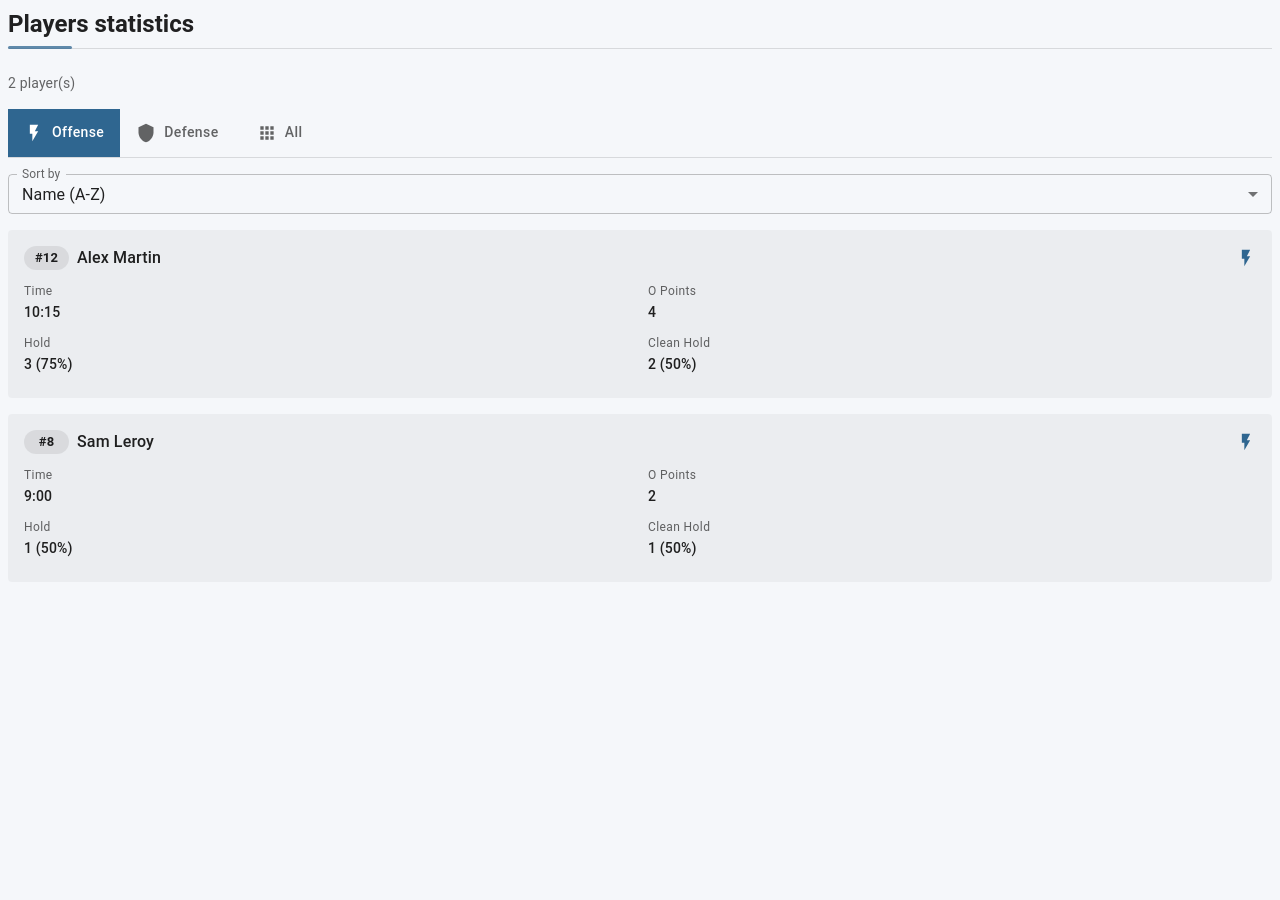
Test: PlayerStatistics › shows offense and defense stats together on mobile cards in the All tab
The image size is (1280, 900).
Click the tab "All".
click(280, 133)  # box [235,109,325,157]
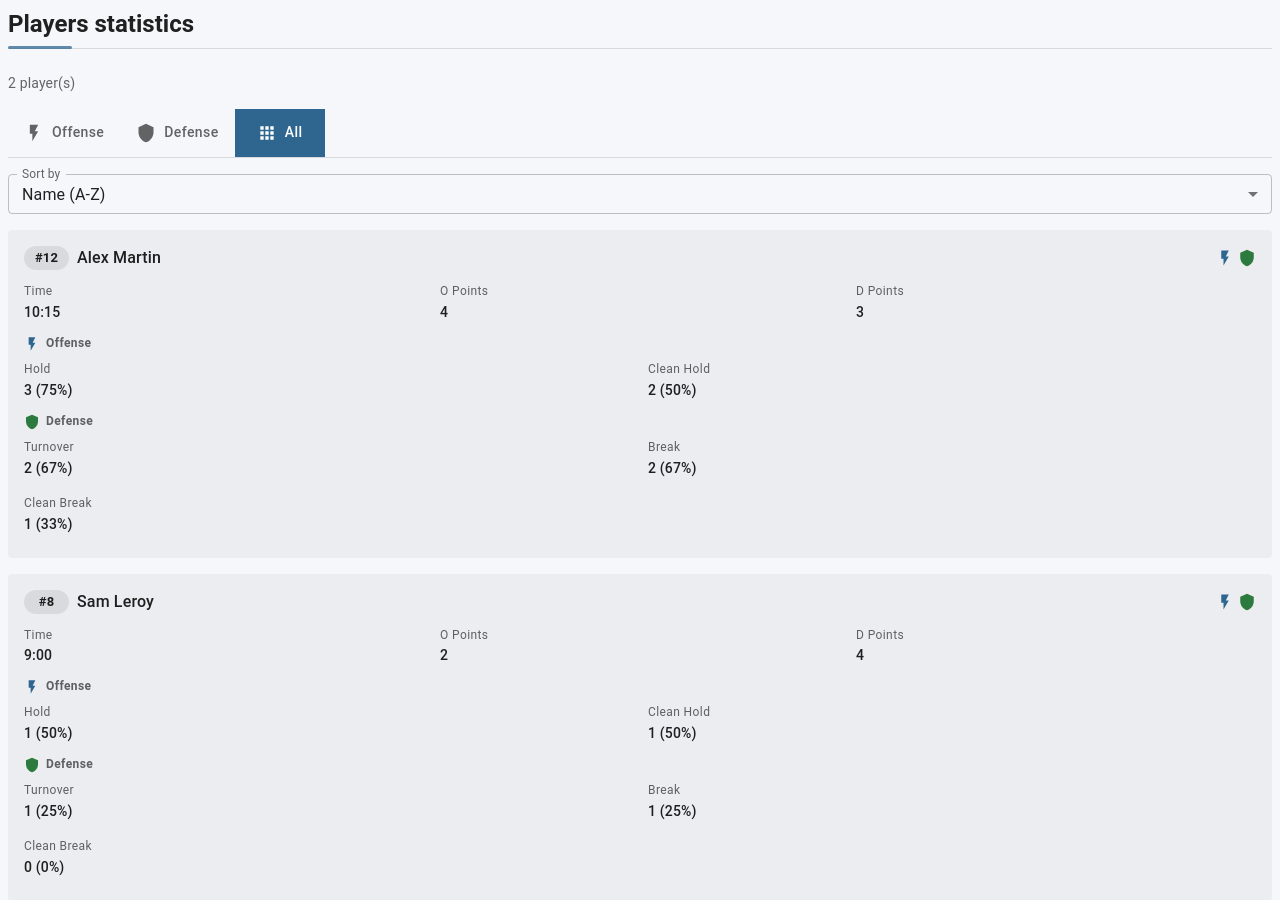
Result: the 1st text "D Points" is shown at [856,284,904,298]
Result: the text "Turnover" below "3 (75%)" is shown at [24,440,74,454]
Result: the text "Break" below "2 (50%)" is shown at [648,440,680,454]
